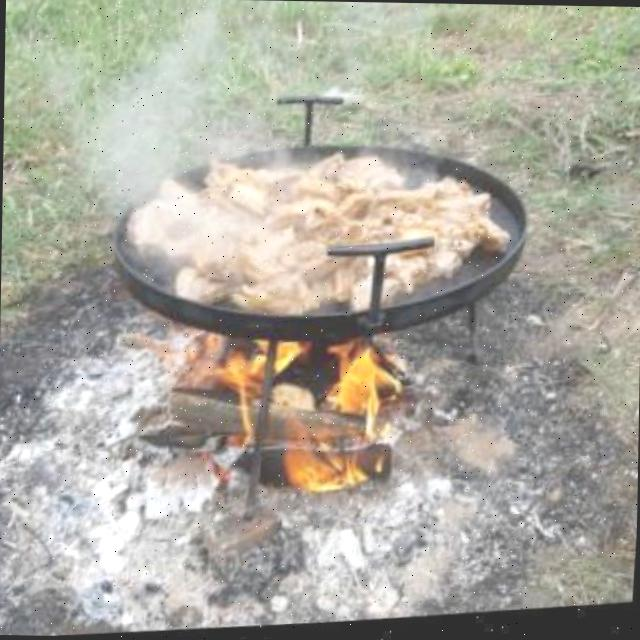fire: (205, 326, 406, 510)
